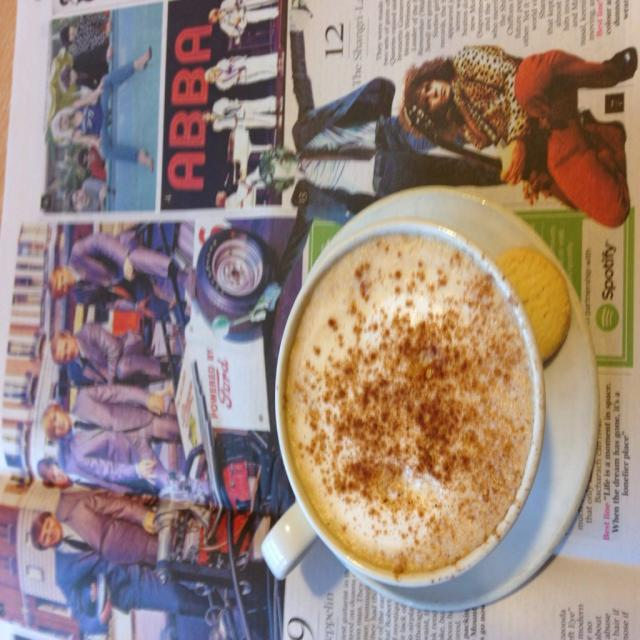Coffee: (286, 207, 544, 601)
